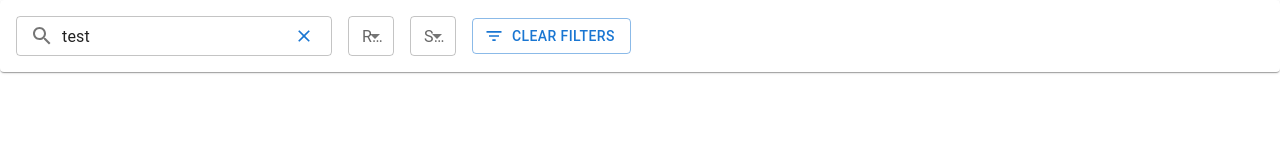
Test: MemberFilters › Search Input › clears search input when clear button is clicked
Check: the field with placeholder "Search by name or email..." holds "test", box [62,16,282,56]
Step 1. Click the button named "clear search" → [304, 36], box [290,22,318,50]
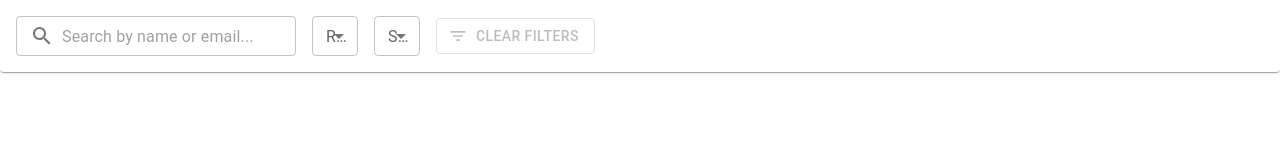
Check: the field with placeholder "Search by name or email..." is empty, box [62,16,296,56]
